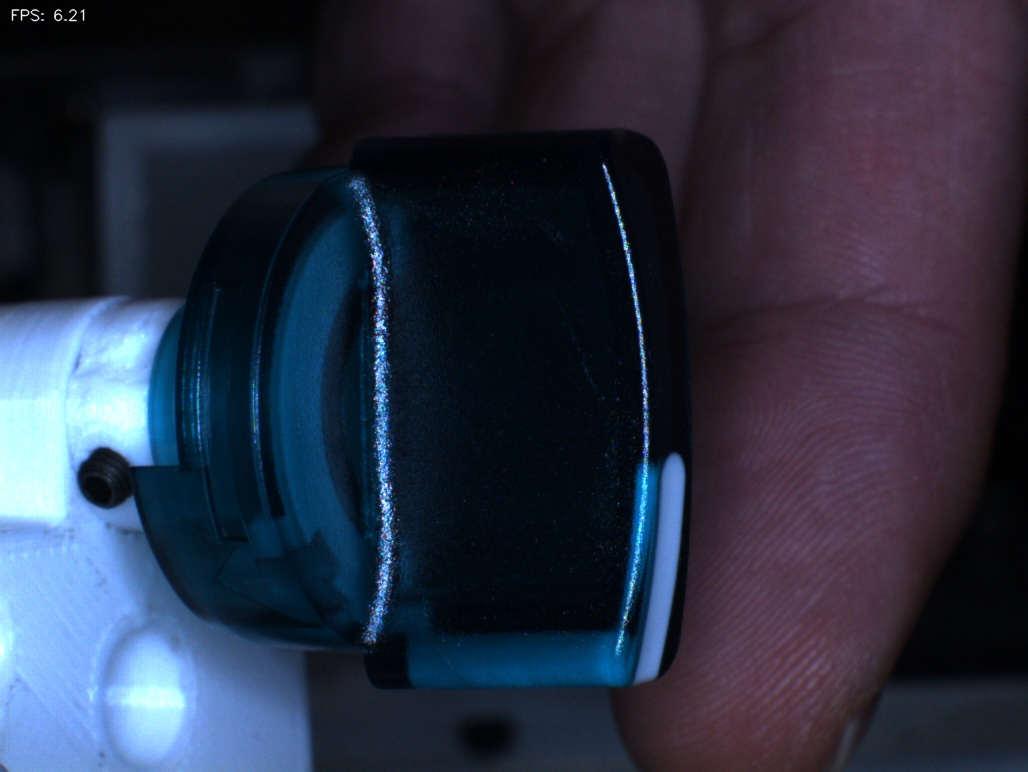Givrage: (451, 174, 593, 262), (534, 298, 619, 420)
